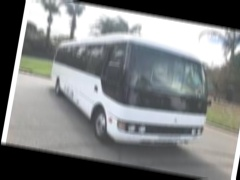bus: (41, 21, 218, 158)
